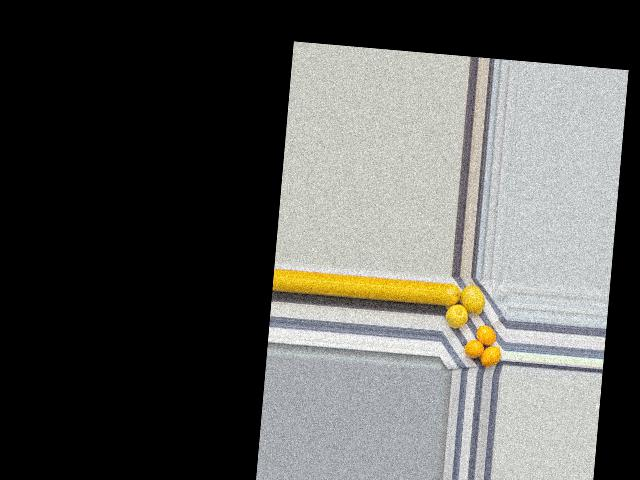lemon: (443, 280, 462, 307)
